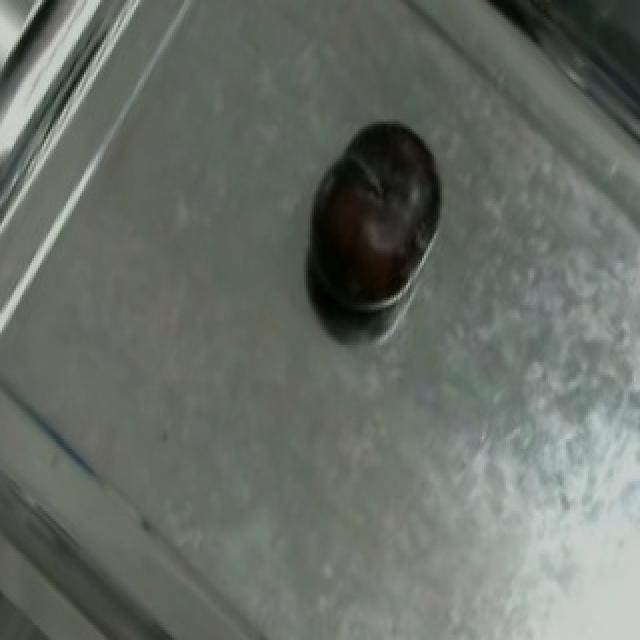Fruit: (292, 101, 464, 312)
